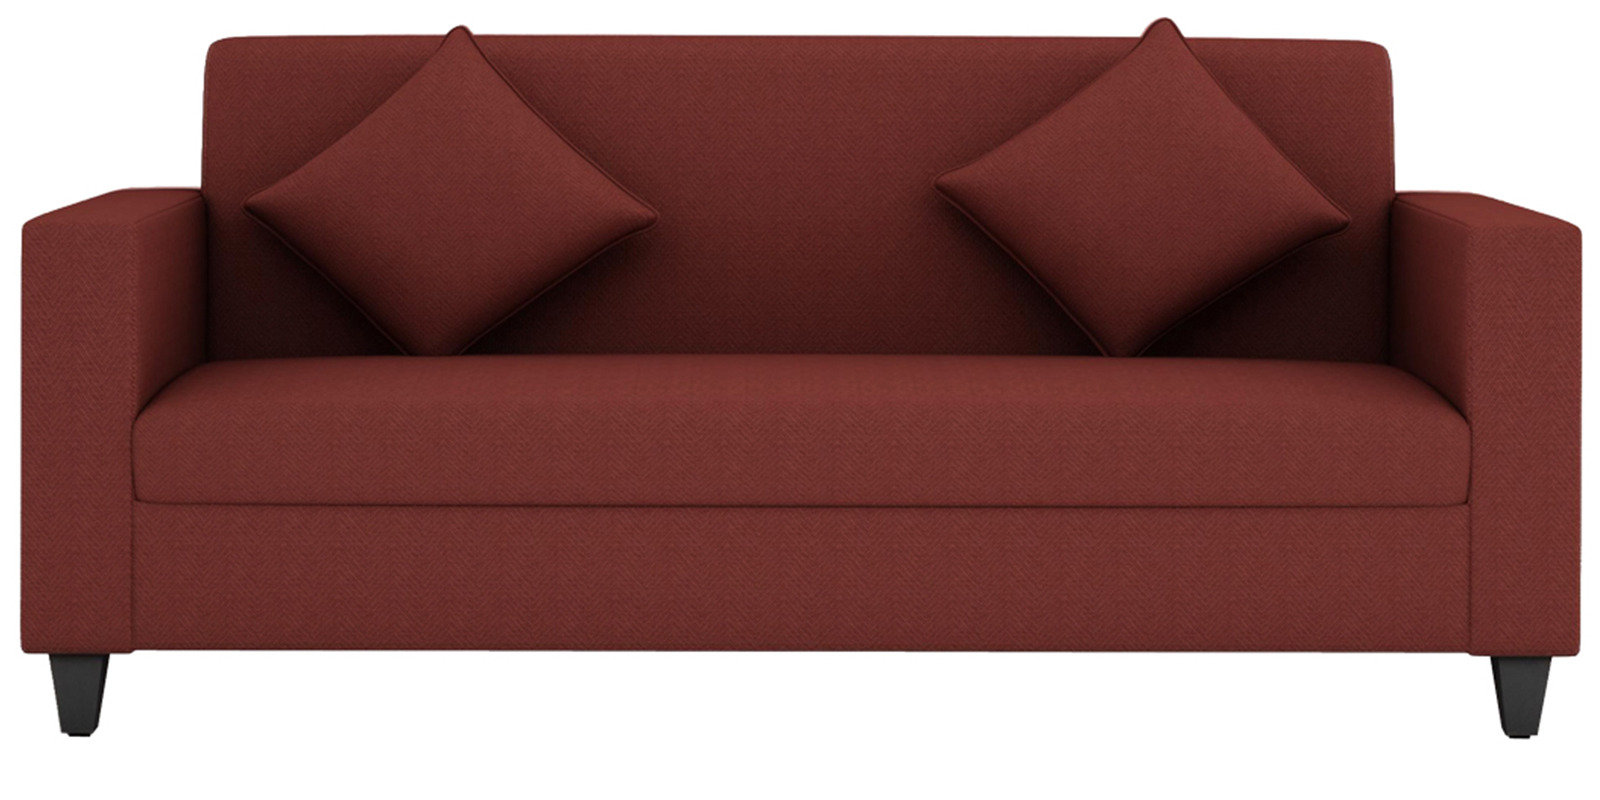Cooper Three Seater Sofa in Cherry Colour by ARRA: (12, 13, 1594, 784)
